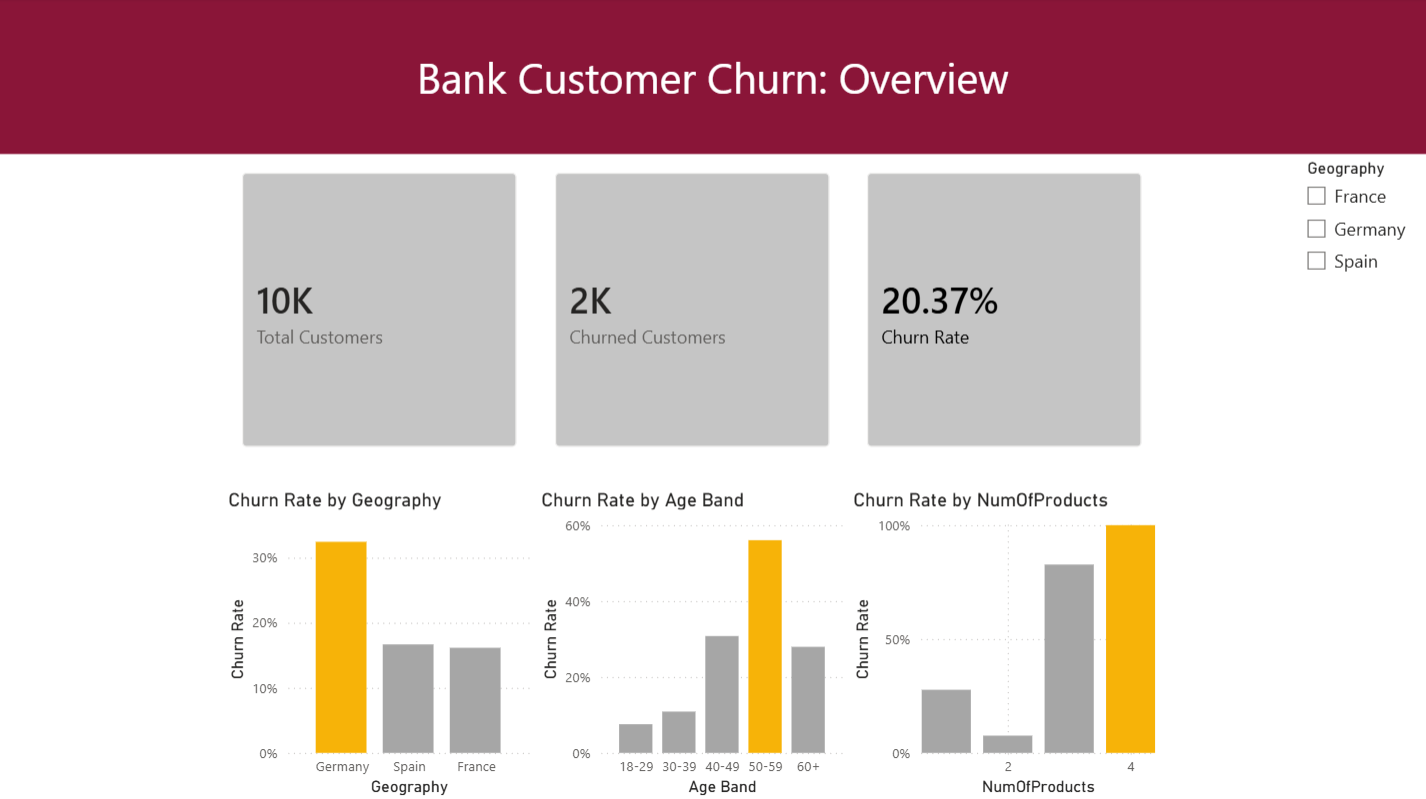

The page's visual inventory and layout, read from the dashboard file:
{"tool":"powerbi","page":{"name":"Page 1","canvas":[1280,720],"ordinal":0},"visuals":[{"type":"cardVisual","fields":{"Data":["Churn_Modelling.Total Customers"]},"box":[201.3,140.1,280.1,280.1],"z":0},{"type":"cardVisual","fields":{"Data":["Churn_Modelling.Churned Customers"]},"box":[481.5,140.1,280.1,280.1],"z":1},{"type":"cardVisual","fields":{"Data":["Churn_Modelling.Churn Rate"]},"box":[761.6,140.1,280.1,280.1],"z":2},{"type":"clusteredColumnChart","fields":{"Category":["Churn_Modelling.Geography"],"Y":["Churn_Modelling.Churn Rate"]},"box":[201.3,439.6,280.1,280.1],"z":3},{"type":"clusteredColumnChart","fields":{"Y":["Churn_Modelling.Churn Rate"],"Category":["Churn_Modelling.Age Band"]},"box":[481.5,439.6,280.1,280.1],"z":4},{"type":"clusteredColumnChart","fields":{"Y":["Churn_Modelling.Churn Rate"],"Category":["Churn_Modelling.NumOfProducts"]},"box":[761.6,439.6,280.1,280.1],"z":5},{"type":"slicer","fields":{"Values":["Churn_Modelling.Geography"]},"box":[1159.4,140.1,120.6,119.6],"z":6},{"type":"shape","box":[0,0,1280,140.1],"z":7}]}

Visuals, with their boxes in screenshot pixels (x1, y1, x2, y2), scaled from the page's 1280x720 canvas onto the 1426x799 screenshot:
cardVisual - Churn_Modelling.Total Customers: <box>224,155,536,466</box>
cardVisual - Churn_Modelling.Churned Customers: <box>536,155,848,466</box>
cardVisual - Churn_Modelling.Churn Rate: <box>848,155,1161,466</box>
clusteredColumnChart - Churn_Modelling.Geography x Churn_Modelling.Churn Rate: <box>224,488,536,798</box>
clusteredColumnChart - Churn_Modelling.Churn Rate x Churn_Modelling.Age Band: <box>536,488,848,798</box>
clusteredColumnChart - Churn_Modelling.Churn Rate x Churn_Modelling.NumOfProducts: <box>848,488,1161,798</box>
slicer - Churn_Modelling.Geography: <box>1292,155,1425,288</box>
shape: <box>0,0,1425,155</box>
